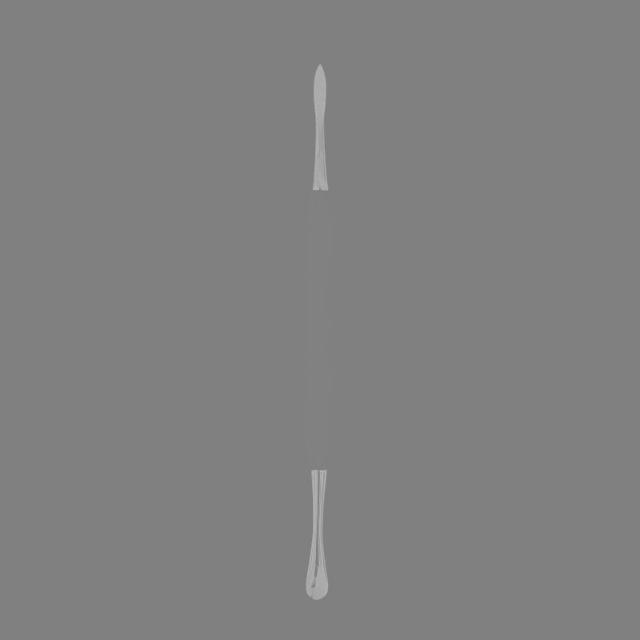elevador: (301, 66, 336, 605)
